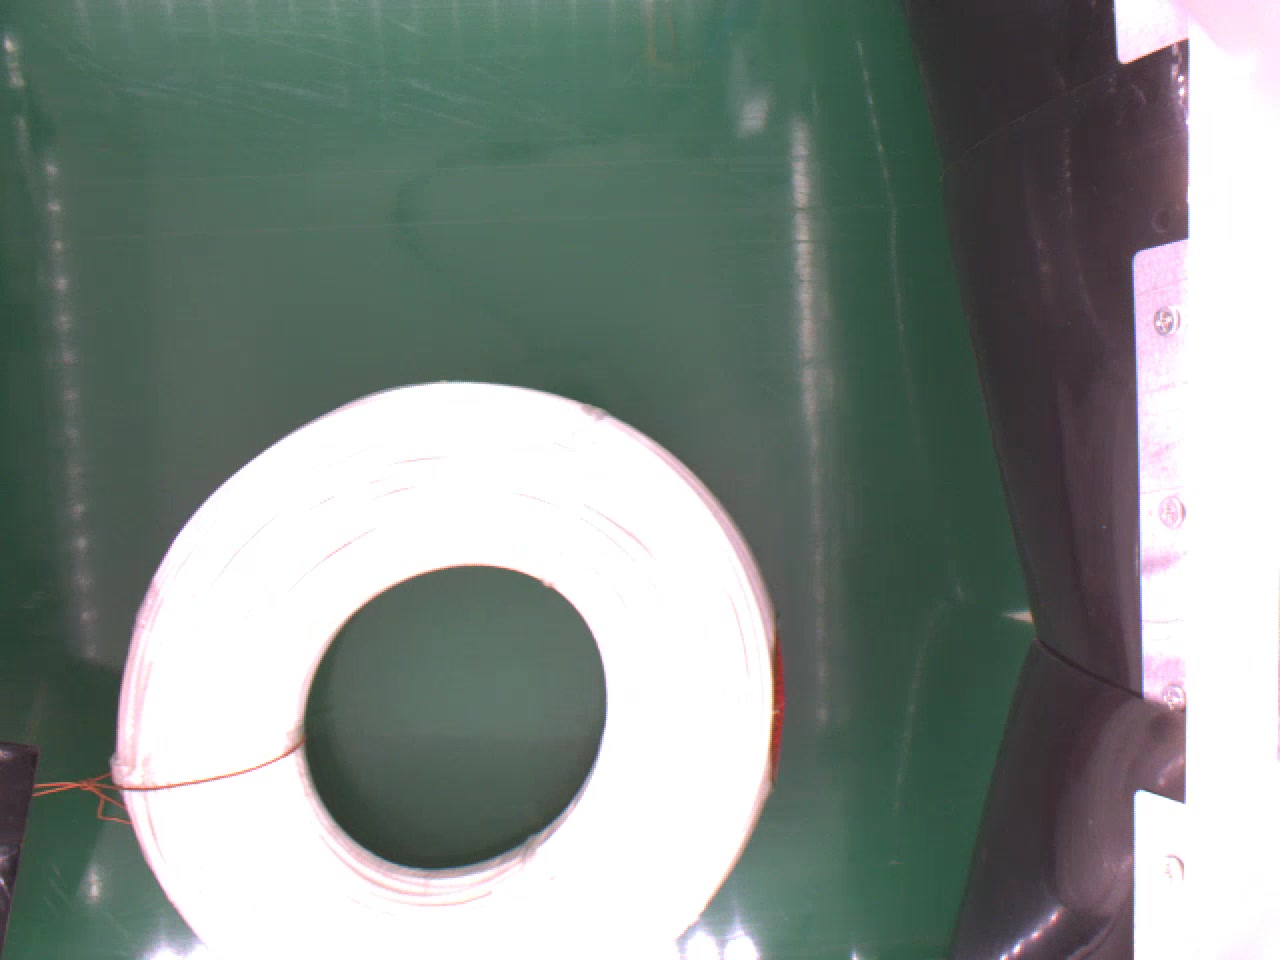white: (113, 380, 789, 960)
